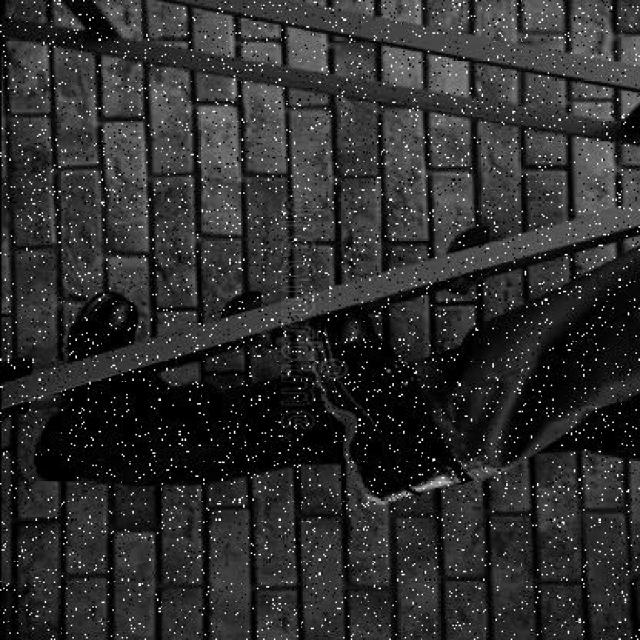shoes: (296, 309, 441, 505), (28, 299, 149, 483)
